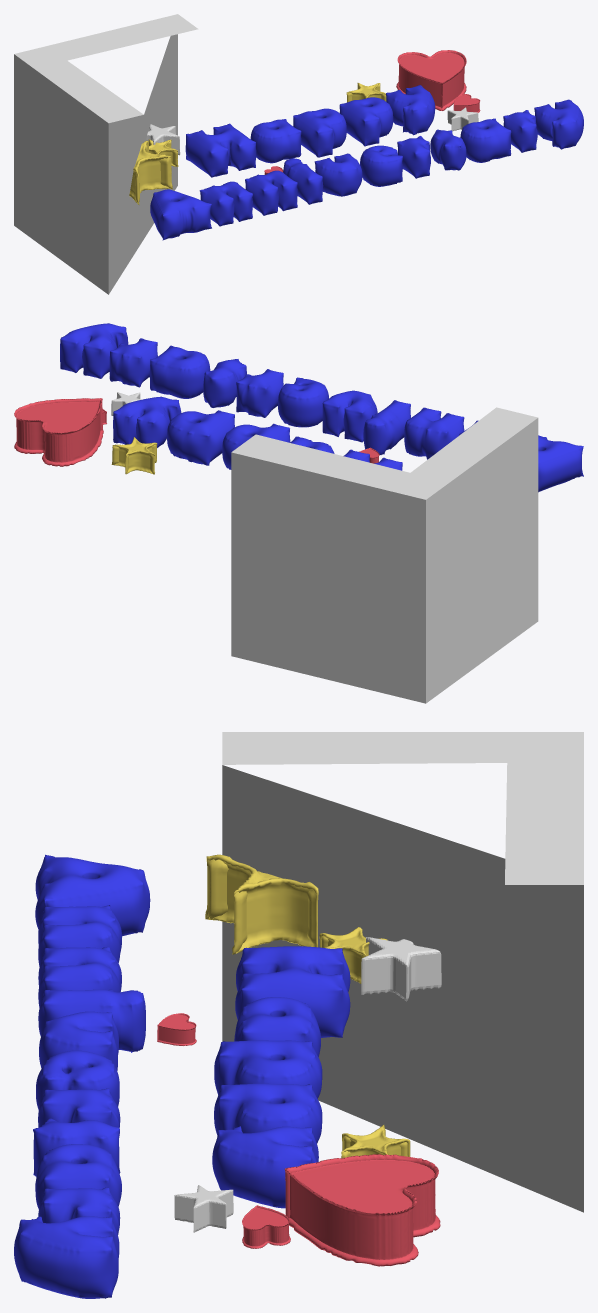
Rendered from letters.glb.
The picture shows the model from 3 angles, top to bottom: view 1: azimuth 30°, elevation 25°; view 2: azimuth 150°, elevation 25°; view 3: azimuth 270°, elevation 25°; orthographic projection. The views are drawn at different scales.
Visible parts, largest first — view 1: Cube, Text, heart, Text.001, Text.002, Text.003, Text.005, Text.004, heart.001; view 2: Cube, Text, heart, Text.005; view 3: Cube, Text, heart, Text.001, Text.002, Text.003, heart.001, Text.005, Text.004, heart.002.
Part boxes in pixels (left/top/right/bottom): Cube: left=14, top=14, right=198, bottom=294; Text: left=150, top=85, right=583, bottom=240; heart: left=396, top=50, right=466, bottom=110; Text.001: left=129, top=140, right=172, bottom=204; Text.002: left=146, top=124, right=180, bottom=155; Text.003: left=447, top=107, right=478, bottom=131; Text.005: left=346, top=83, right=386, bottom=102; Text.004: left=148, top=139, right=178, bottom=166; heart.001: left=453, top=94, right=480, bottom=112; Cube: left=231, top=407, right=538, bottom=703; Text: left=60, top=323, right=583, bottom=492; heart: left=14, top=398, right=103, bottom=466; Text.005: left=111, top=437, right=157, bottom=474; Cube: left=222, top=732, right=583, bottom=1212; Text: left=14, top=854, right=350, bottom=1298; heart: left=284, top=1154, right=440, bottom=1266; Text.001: left=205, top=854, right=318, bottom=954; Text.002: left=361, top=937, right=441, bottom=1001; Text.003: left=174, top=1185, right=233, bottom=1232; heart.001: left=242, top=1205, right=290, bottom=1248; Text.005: left=341, top=1125, right=410, bottom=1158; Text.004: left=319, top=927, right=387, bottom=983; heart.002: left=157, top=1013, right=196, bottom=1045.
Size of the model in its own units: 5.32 by 2 by 3.15.
